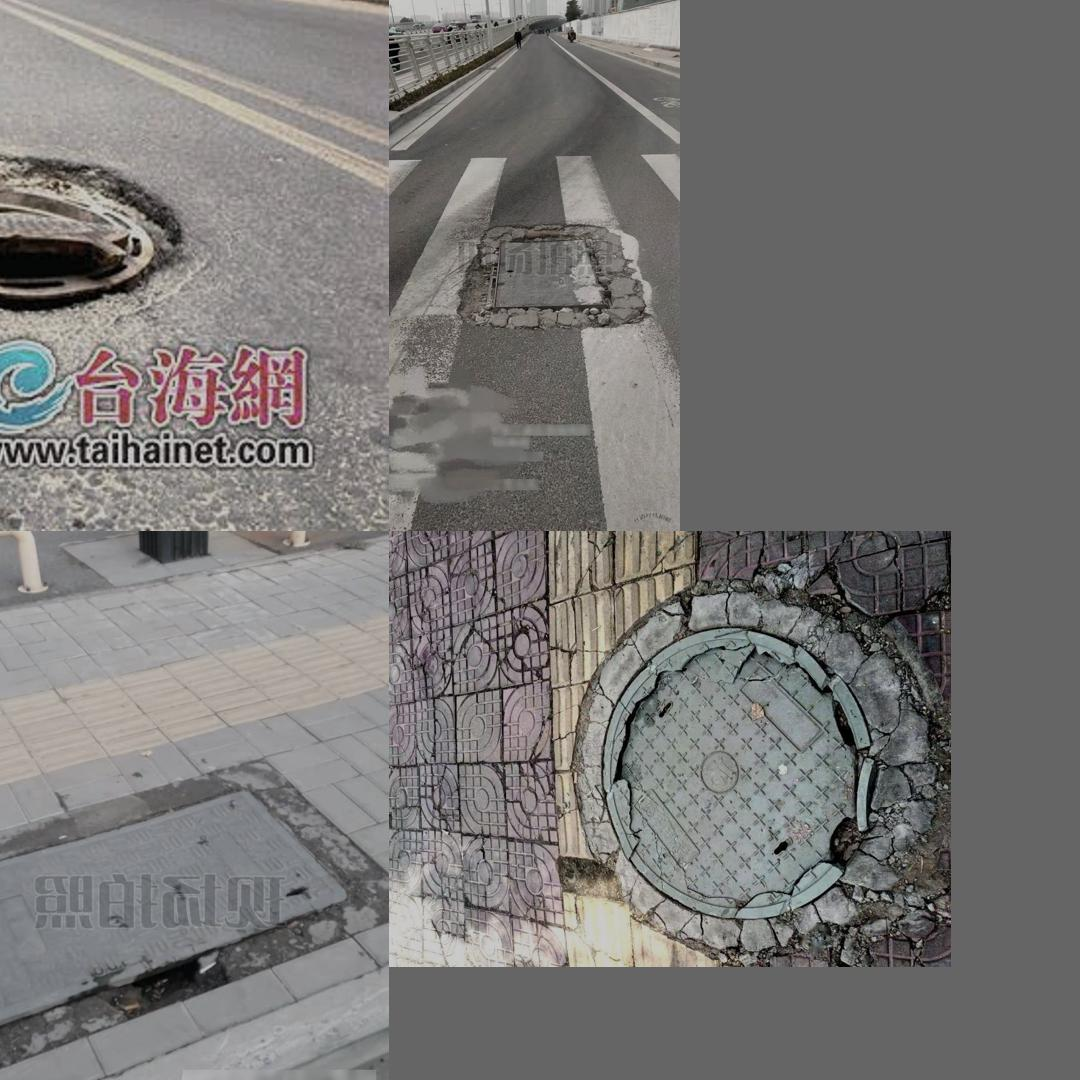circle: (564, 581, 928, 947), (0, 759, 383, 1055), (0, 137, 241, 347), (501, 368, 797, 531)
